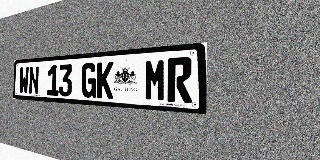1: (47, 65, 59, 96)
3: (59, 64, 72, 97)
G: (81, 62, 97, 98)
K: (97, 61, 114, 99)
M: (144, 58, 167, 102)
N: (29, 66, 39, 95)
R: (167, 57, 192, 103)
W: (19, 66, 29, 94)
